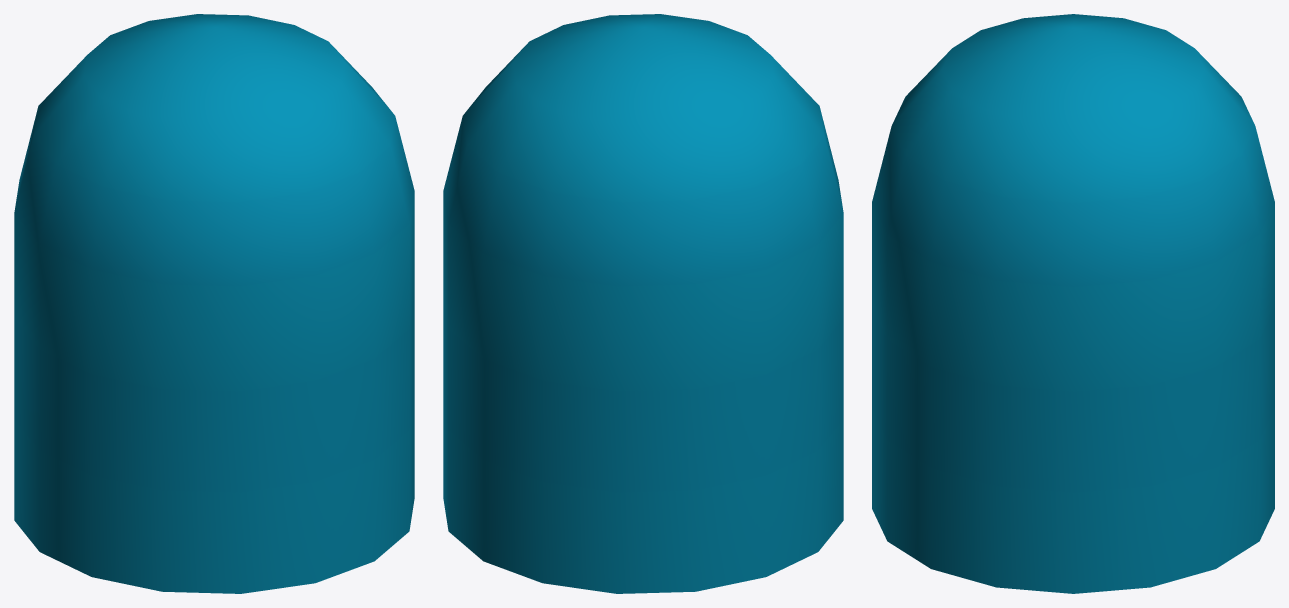
File: Arm_Sleeve_L_08_R.fbx
3 views of the same model, side by side, from view 1: azimuth 30°, elevation 25°; view 2: azimuth 150°, elevation 25°; view 3: azimuth 270°, elevation 25° (orthographic).
Parts seen in each view (by area): view 1: Arm_Sleeve_L_08_R; view 2: Arm_Sleeve_L_08_R; view 3: Arm_Sleeve_L_08_R.
Part boxes in pixels (x1,y1,x2,y2): Arm_Sleeve_L_08_R: [14, 14, 414, 593]; Arm_Sleeve_L_08_R: [443, 14, 843, 593]; Arm_Sleeve_L_08_R: [872, 14, 1274, 593].
Size of the model in its own units: 48.18 by 63.45 by 48.18.
